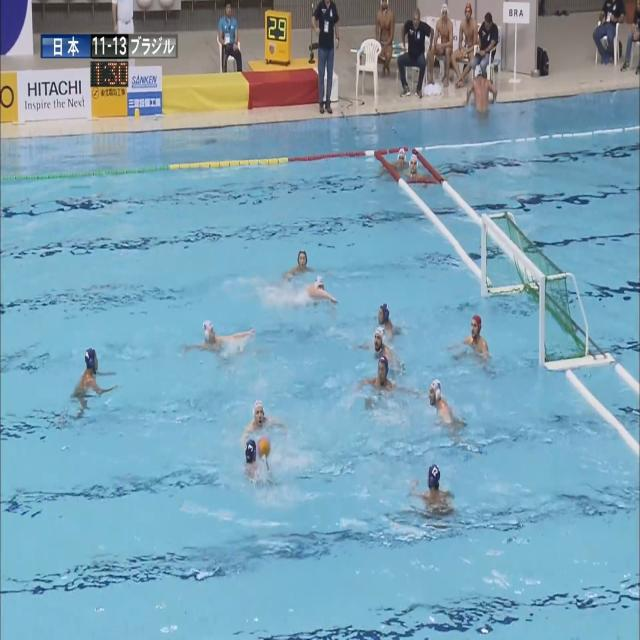ball: (258, 436, 270, 457)
